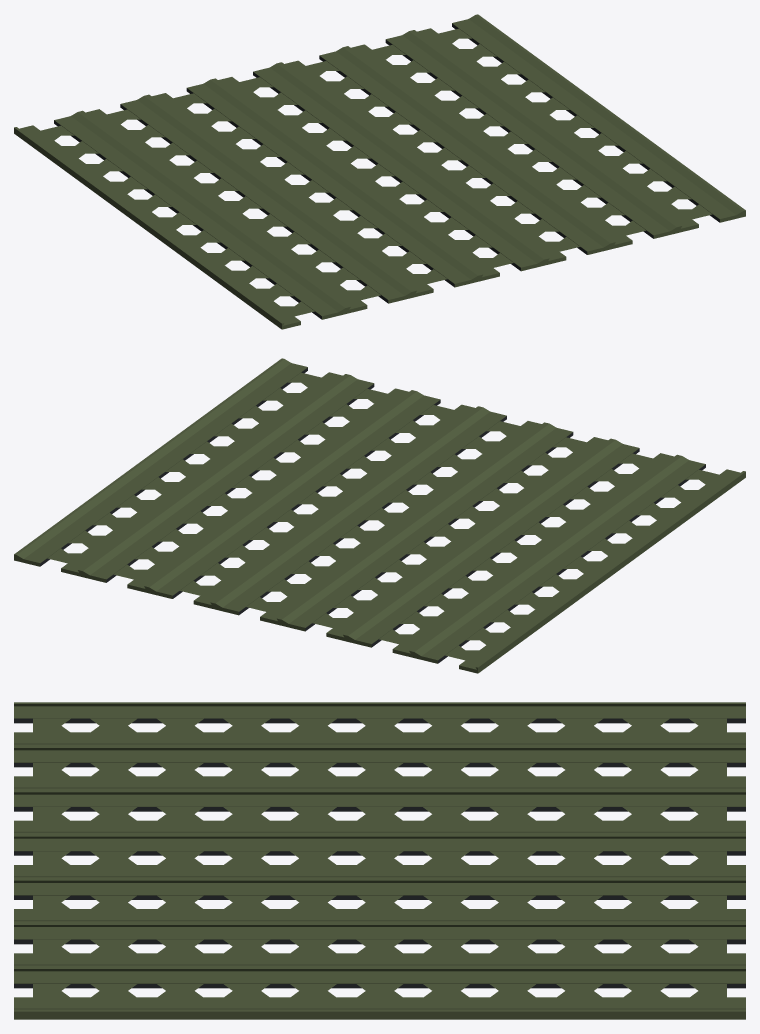
File: pierced-steel-plank-tile-5653ca.glb
3 views of the same model, one above another, from view 1: azimuth 30°, elevation 25°; view 2: azimuth 150°, elevation 25°; view 3: azimuth 270°, elevation 25° (orthographic). The views are drawn at different scales.
Parts seen in each view (by area): view 1: pierced-steel-plank; view 2: pierced-steel-plank; view 3: pierced-steel-plank.
Part boxes in pixels (x1,y1,x2,y2): pierced-steel-plank: [14, 14, 745, 329]; pierced-steel-plank: [14, 358, 745, 673]; pierced-steel-plank: [14, 702, 745, 1019].
Bounding box in the file's own units: 4 × 0.05 × 4.
